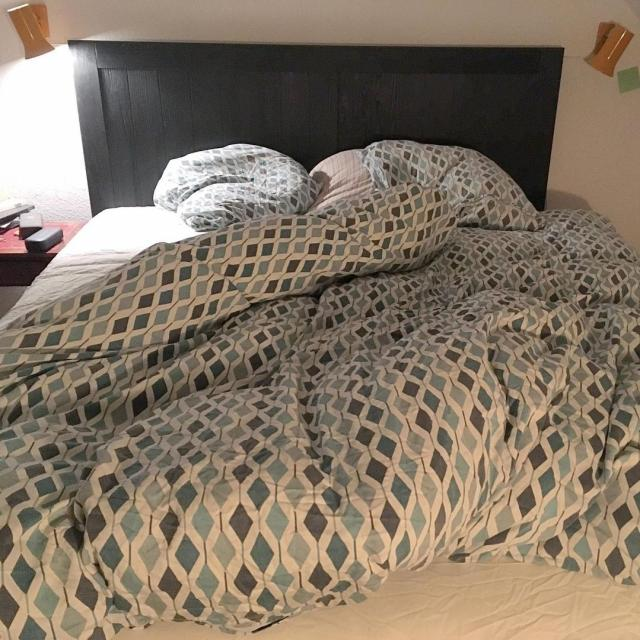bed: (1, 134, 640, 640)
